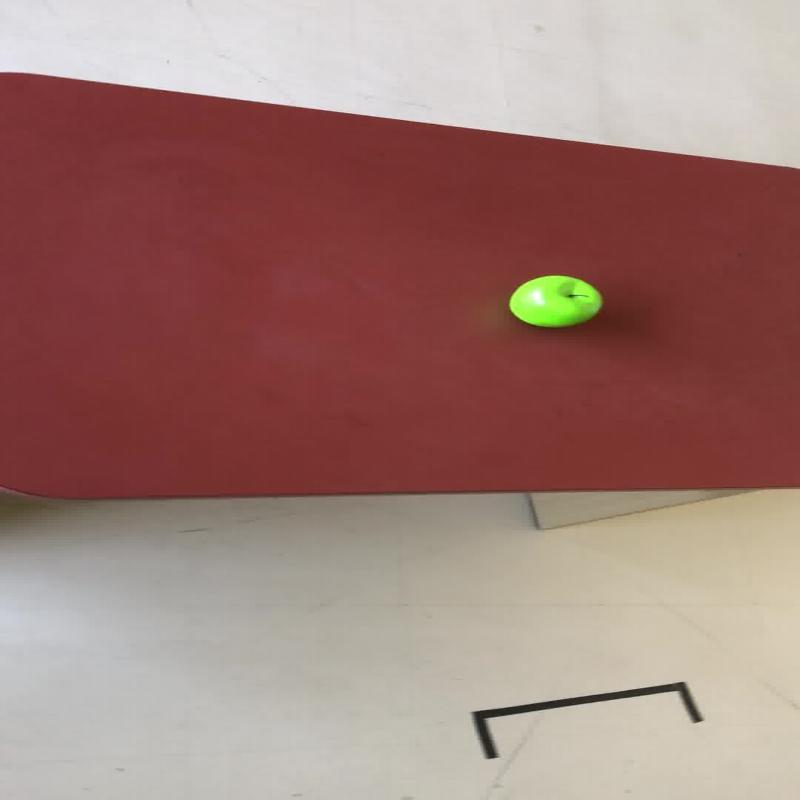apple: (506, 274, 602, 328)
